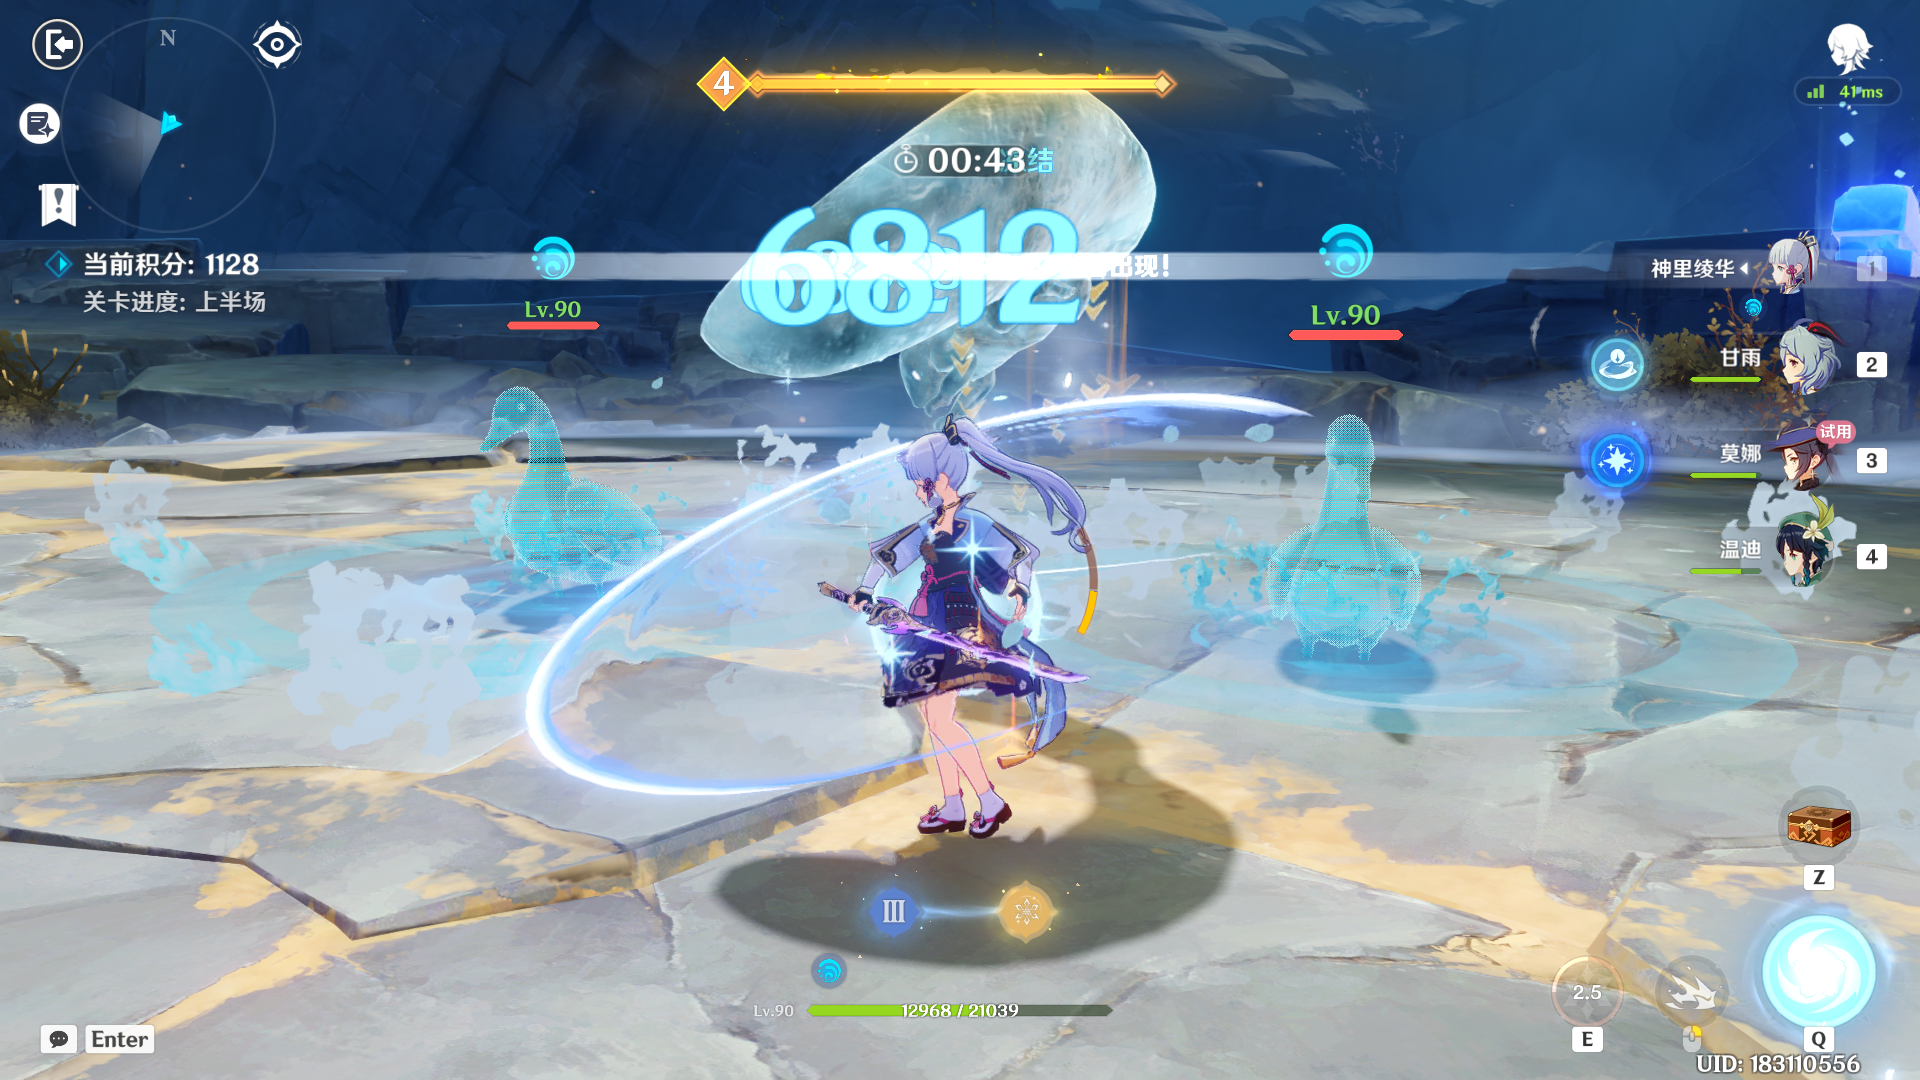character: (808, 400, 1104, 873)
